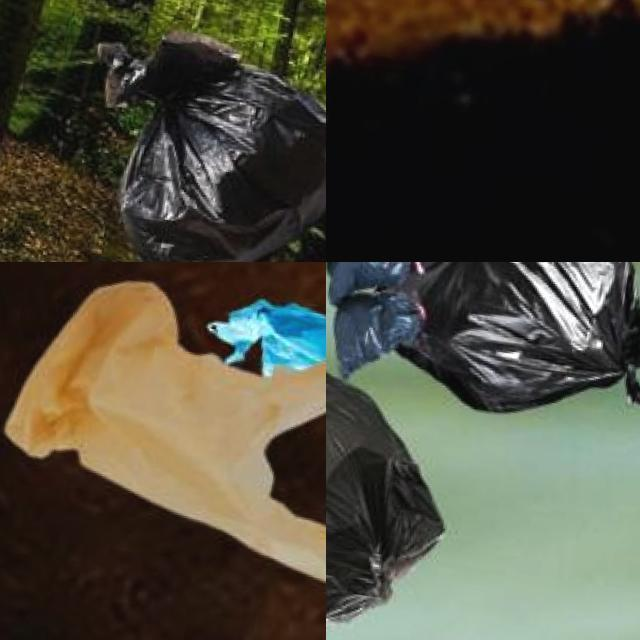waste: (0, 265, 326, 603), (71, 25, 326, 262), (384, 262, 640, 431), (326, 348, 465, 631)
